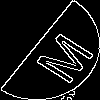M: (25, 25, 96, 86)
